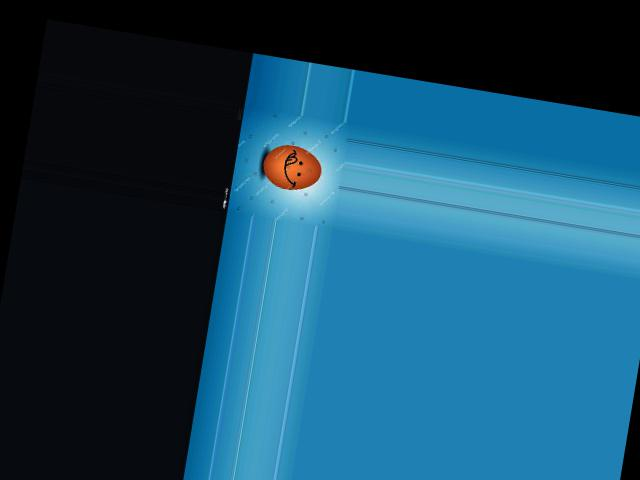egg: (260, 140, 324, 194)
